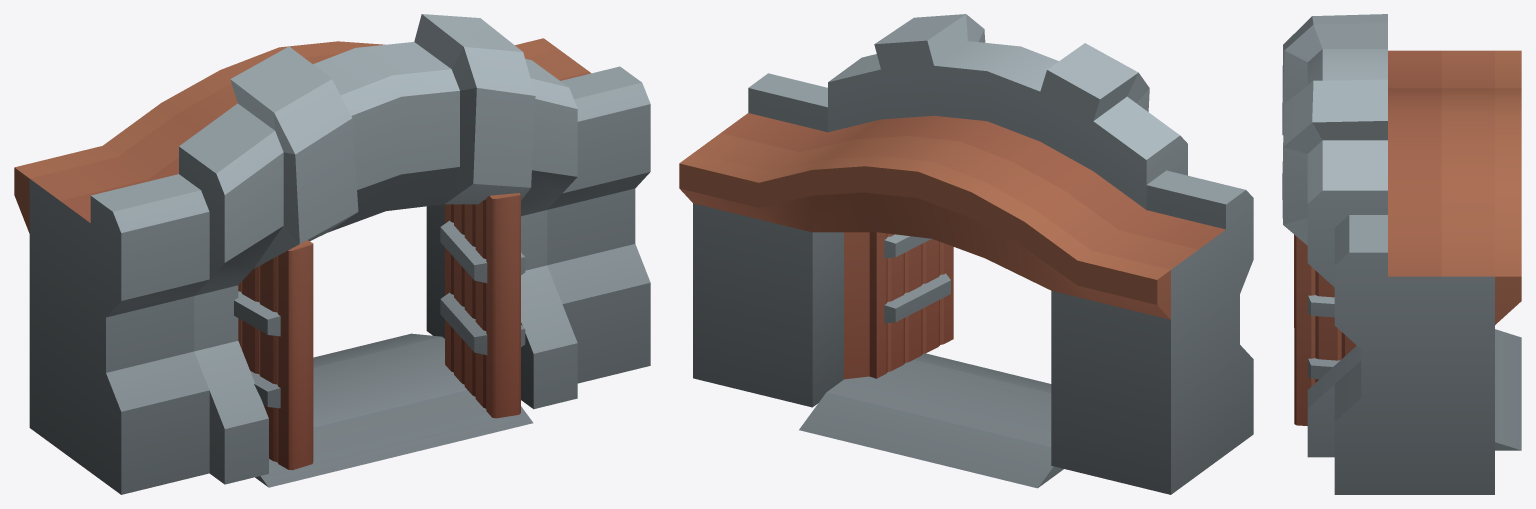
The model's file is wall_straigth_gate_opened.glb.
The picture shows the model from 3 angles, left to right: view 1: azimuth 30°, elevation 25°; view 2: azimuth 150°, elevation 25°; view 3: azimuth 270°, elevation 25°; orthographic projection. The views are drawn at different scales.
Parts seen in each view (by area): view 1: wall_straight_gate, wall_straight_gate_door_left, wall_straight_gate_door_right; view 2: wall_straight_gate, wall_straight_gate_door_left; view 3: wall_straight_gate, wall_straight_gate_door_left.
Boxes of the visible parts, x1,y1,x2,y2 form: wall_straight_gate: (14, 14, 650, 494); wall_straight_gate_door_left: (440, 193, 525, 418); wall_straight_gate_door_right: (234, 240, 313, 470); wall_straight_gate: (679, 14, 1253, 494); wall_straight_gate_door_left: (869, 232, 953, 378); wall_straight_gate: (1282, 14, 1521, 494); wall_straight_gate_door_left: (1294, 235, 1356, 425).
Size of the model in its own units: 2 by 1.41 by 0.8956.
Materials: 1 (1 with a texture image).
